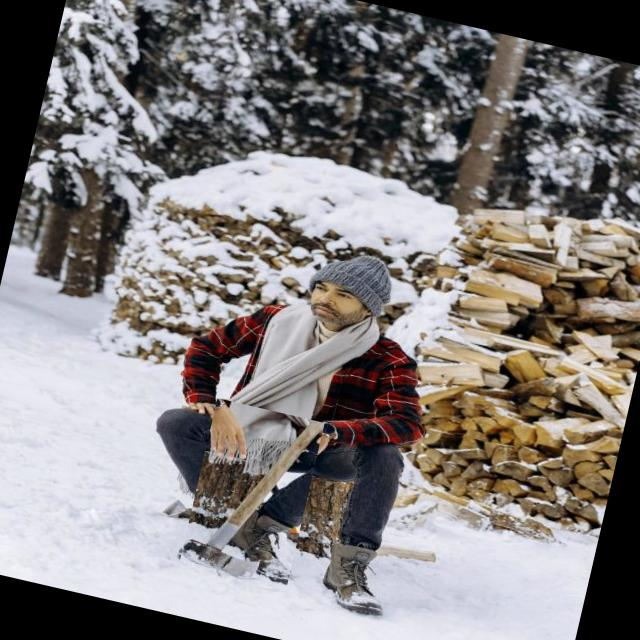Axe: (182, 420, 322, 570)
